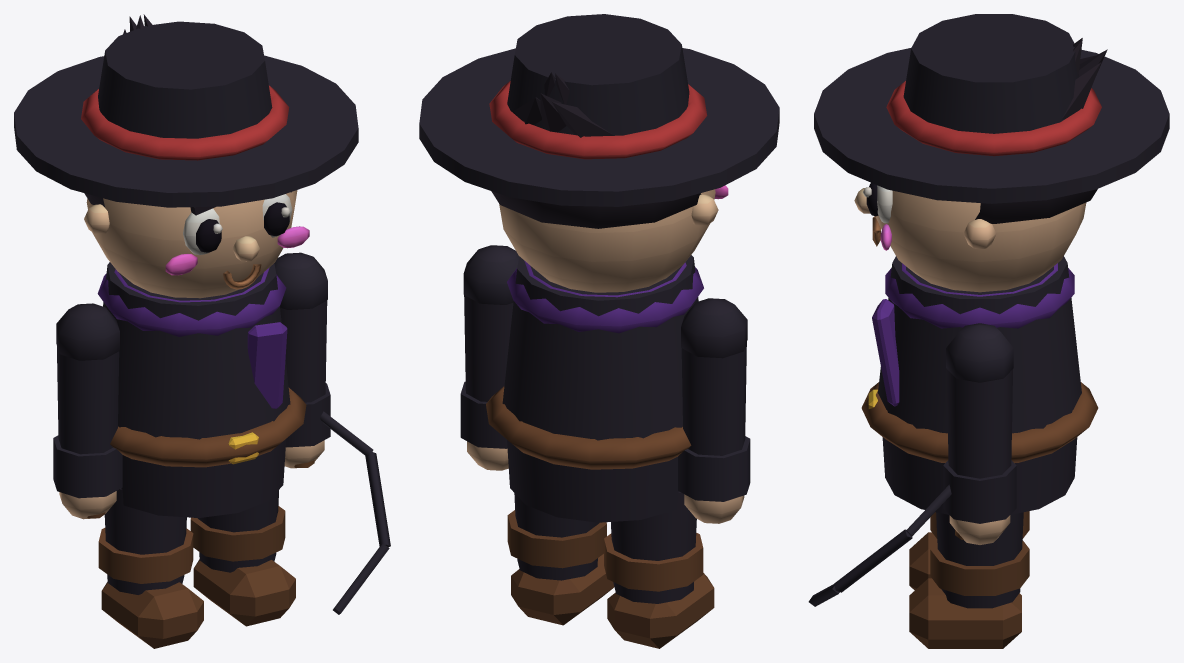
The model's file is hero_raven.glb.
The picture shows the model from 3 angles, left to right: view 1: azimuth 30°, elevation 25°; view 2: azimuth 150°, elevation 25°; view 3: azimuth 270°, elevation 25°; orthographic projection. The views are drawn at different scales.
Visible parts, largest first — view 1: body_t0_palette, arml_t0_palette, legl_t0_palette, armr_t0_palette, legr_t0_palette; view 2: body_t0_palette, arml_t0_palette, legl_t0_palette, legr_t0_palette, armr_t0_palette; view 3: body_t0_palette, armr_t0_palette, legr_t0_palette, legl_t0_palette.
Part boxes in pixels (<box>): body_t0_palette: <box>14,14,358,517</box>; arml_t0_palette: <box>53,303,122,519</box>; legl_t0_palette: <box>98,488,203,648</box>; armr_t0_palette: <box>274,252,390,614</box>; legr_t0_palette: <box>190,490,295,626</box>; body_t0_palette: <box>419,14,779,522</box>; arml_t0_palette: <box>678,298,750,523</box>; legl_t0_palette: <box>604,492,714,648</box>; legr_t0_palette: <box>507,493,614,625</box>; armr_t0_palette: <box>460,245,519,470</box>; body_t0_palette: <box>814,14,1169,514</box>; armr_t0_palette: <box>808,323,1016,606</box>; legr_t0_palette: <box>909,512,1029,648</box>; legl_t0_palette: <box>909,511,1029,590</box>.
Size of the model in its own units: 0.3 by 0.5391 by 0.3047.
